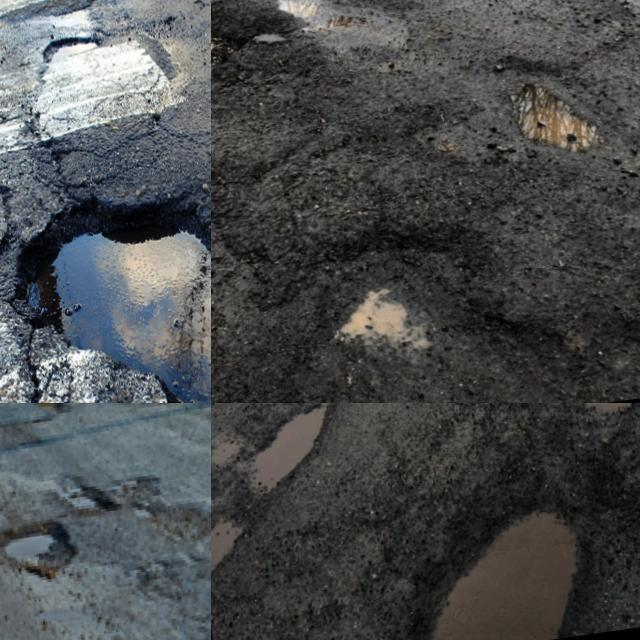Potholes: (289, 179, 540, 403), (0, 141, 211, 403), (0, 0, 211, 206), (379, 462, 613, 640), (55, 445, 211, 586), (493, 40, 640, 183), (211, 403, 369, 499), (211, 144, 280, 355), (0, 492, 100, 617), (505, 0, 640, 78), (211, 0, 314, 99), (10, 403, 211, 447), (488, 403, 640, 457)
